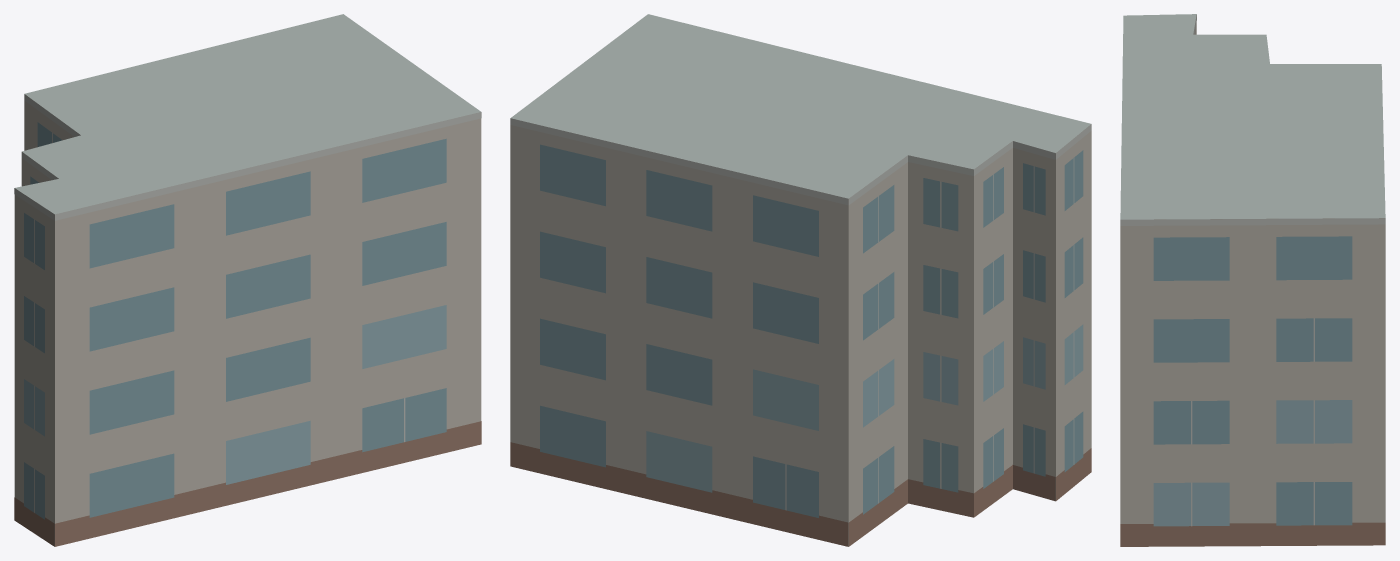
The model's file is survey-upis-32682009.glb.
3 renders of one model, left to right at view 1: azimuth 30°, elevation 25°; view 2: azimuth 150°, elevation 25°; view 3: azimuth 270°, elevation 25°, orthographic. The views are drawn at different scales.
Parts seen in each view (by area): view 1: survey-upis-32682009.tmp; view 2: survey-upis-32682009.tmp; view 3: survey-upis-32682009.tmp.
Boxes of the visible parts, box(x1,y1,x2,y2) form: survey-upis-32682009.tmp: box(14, 14, 481, 546); survey-upis-32682009.tmp: box(510, 14, 1091, 546); survey-upis-32682009.tmp: box(1120, 14, 1385, 546).
Bounding box in the file's own units: 16.92 × 12.55 × 9.23.
